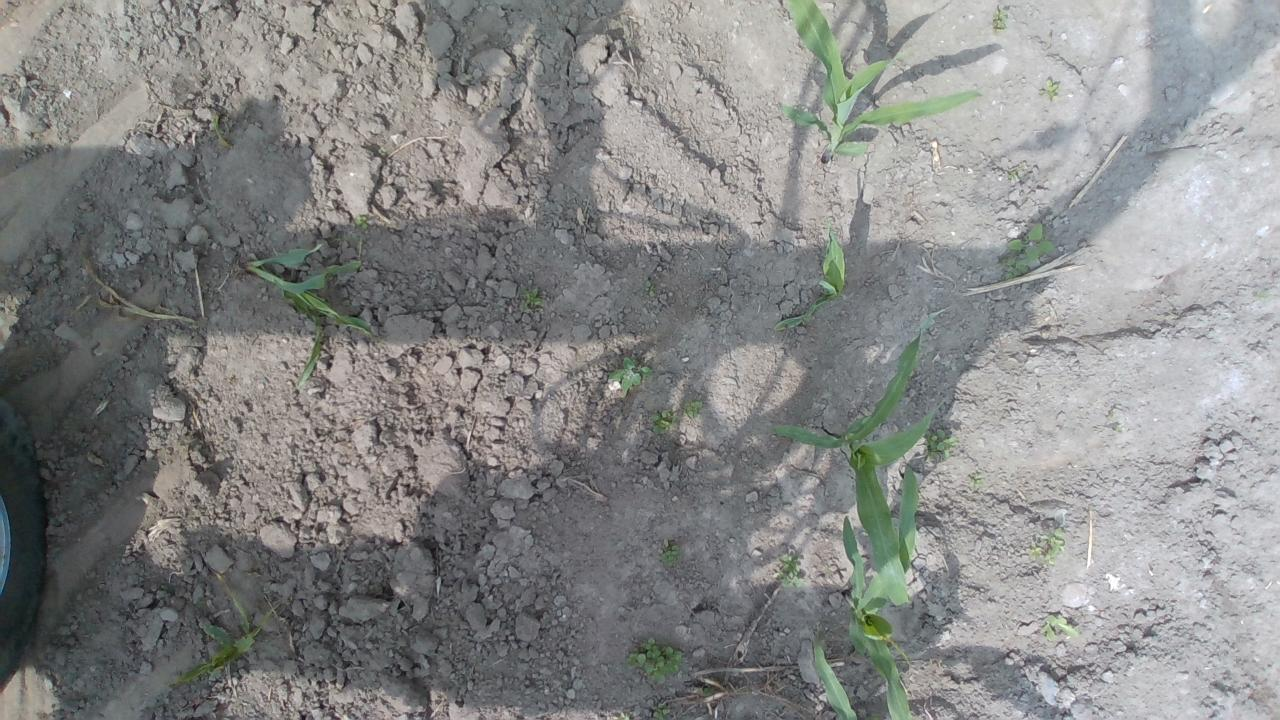Maize: (766, 308, 948, 606), (776, 0, 981, 158), (840, 460, 919, 720), (243, 240, 375, 386), (162, 571, 277, 688), (771, 218, 846, 332), (811, 632, 881, 720)
Weeds: (998, 224, 1054, 279), (624, 637, 684, 684), (609, 355, 656, 395), (1028, 528, 1066, 568), (922, 426, 959, 463), (772, 552, 804, 588), (1040, 614, 1080, 642), (651, 408, 678, 435), (660, 538, 680, 567), (518, 286, 542, 310), (681, 395, 704, 419), (992, 5, 1008, 35), (1038, 78, 1058, 100), (651, 702, 671, 720), (967, 472, 984, 492), (209, 114, 224, 133), (643, 278, 656, 298), (354, 214, 368, 231), (702, 688, 716, 698), (195, 599, 206, 610), (1008, 170, 1018, 180), (378, 146, 388, 155), (621, 712, 631, 720)
